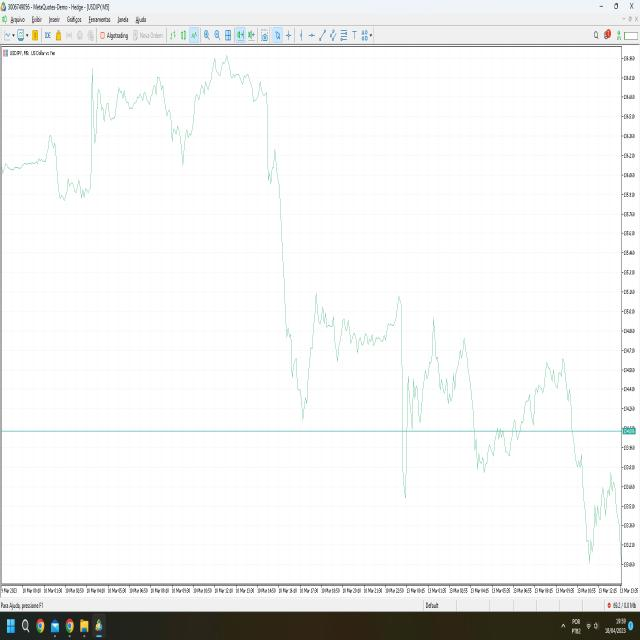bandeira_baixa: (276, 183, 394, 424)
oco_inv: (162, 111, 202, 179)
topo_duplo: (422, 308, 476, 464)
